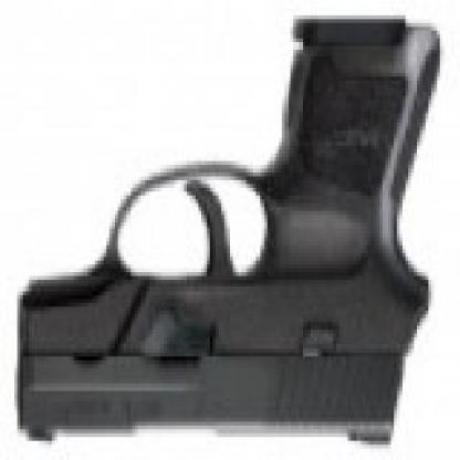weapon: (19, 14, 448, 452)
